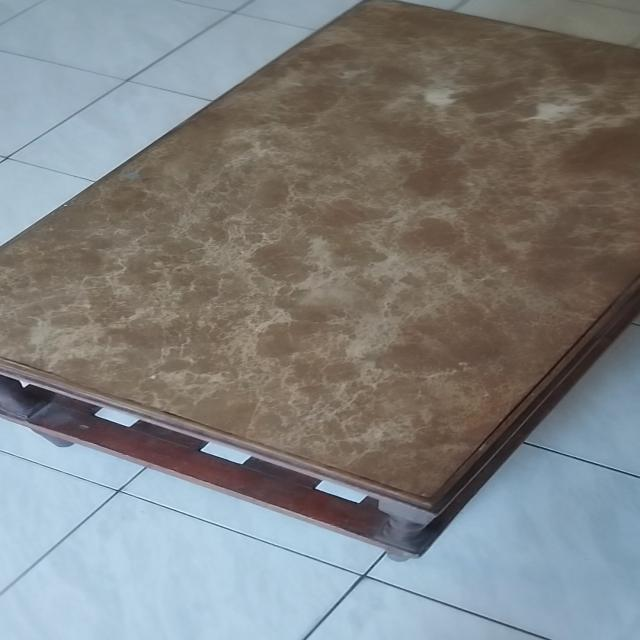table: (8, 0, 640, 566)
